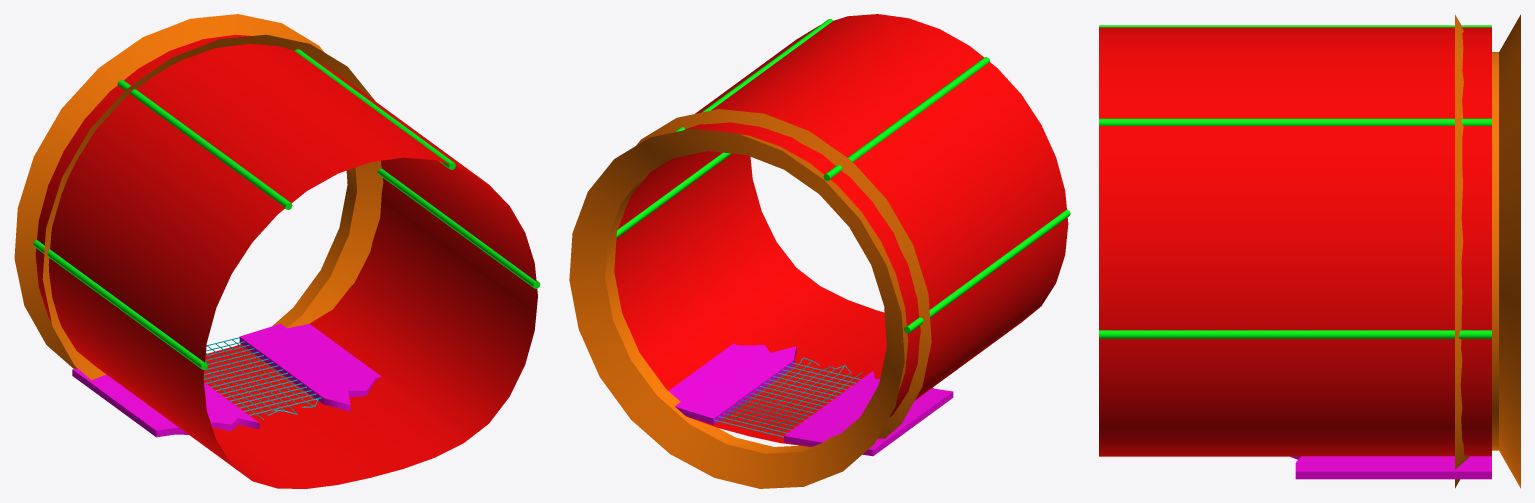
The model's file is 1_5_Break.fbx.
3 renders of one model, left to right at view 1: azimuth 30°, elevation 25°; view 2: azimuth 150°, elevation 25°; view 3: azimuth 270°, elevation 25°, orthographic. The views are drawn at different scales.
Parts seen in each view (by area): view 1: Tube001; view 2: Tube001; view 3: Tube001.
Boxes of the visible parts, bbox=[...] form: Tube001: bbox=[14, 14, 540, 488]; Tube001: bbox=[569, 14, 1070, 488]; Tube001: bbox=[1099, 14, 1520, 488].
Size of the model in its own units: 284 by 284 by 252.
